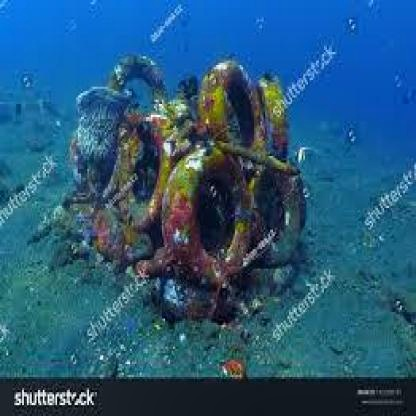tire: (162, 154, 264, 290), (104, 104, 174, 240), (198, 58, 264, 167)
